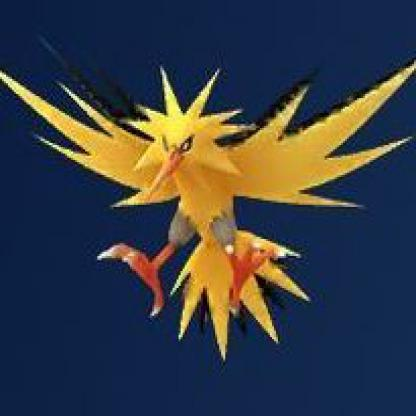Zapdos: (1, 1, 416, 381)
